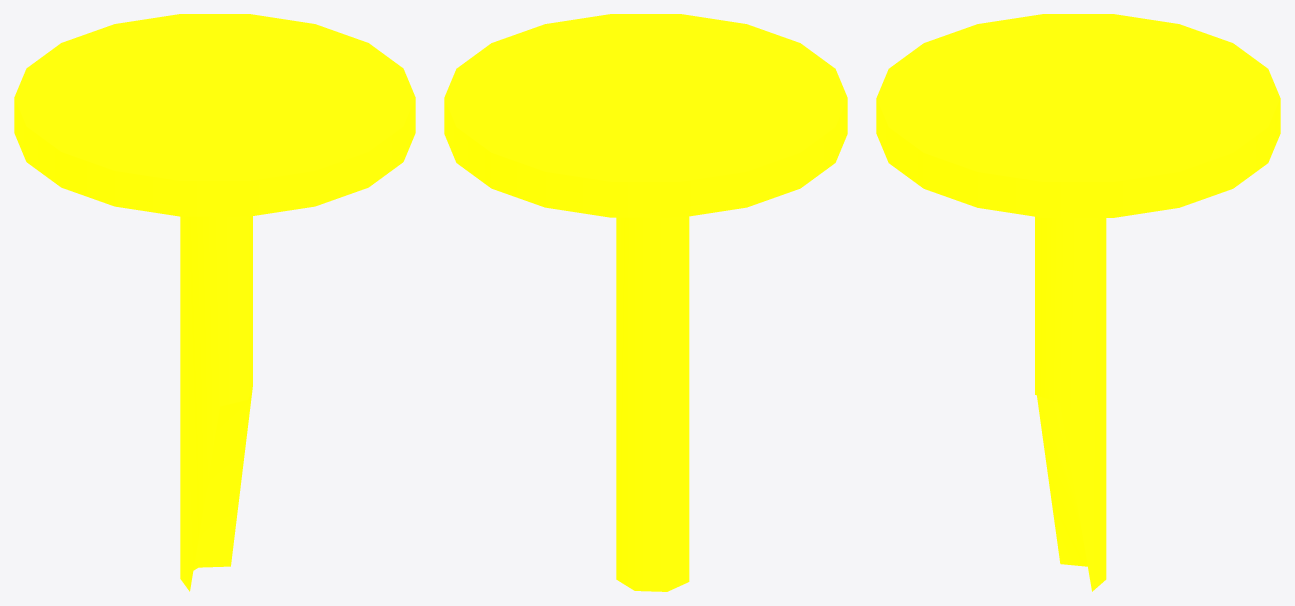
File: stool.glb
3 renders of one model, left to right at view 1: azimuth 30°, elevation 25°; view 2: azimuth 150°, elevation 25°; view 3: azimuth 270°, elevation 25°, orthographic.
Parts seen in each view (by area): view 1: Cylinder117; view 2: Cylinder117; view 3: Cylinder117.
Part boxes in pixels (x1,y1,x2,y2): Cylinder117: (14,14,415,591); Cylinder117: (444,14,847,591); Cylinder117: (876,14,1280,591).
Size of the model in its own units: 0.4372 by 0.5854 by 0.4439.
